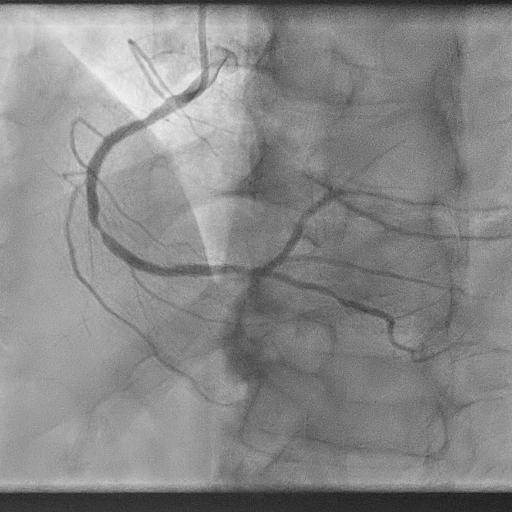block: (243, 295, 309, 372)
